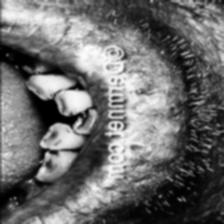Potentially Malignant Skin Tumors: (122, 73, 168, 117), (71, 40, 105, 77), (128, 144, 156, 180)
